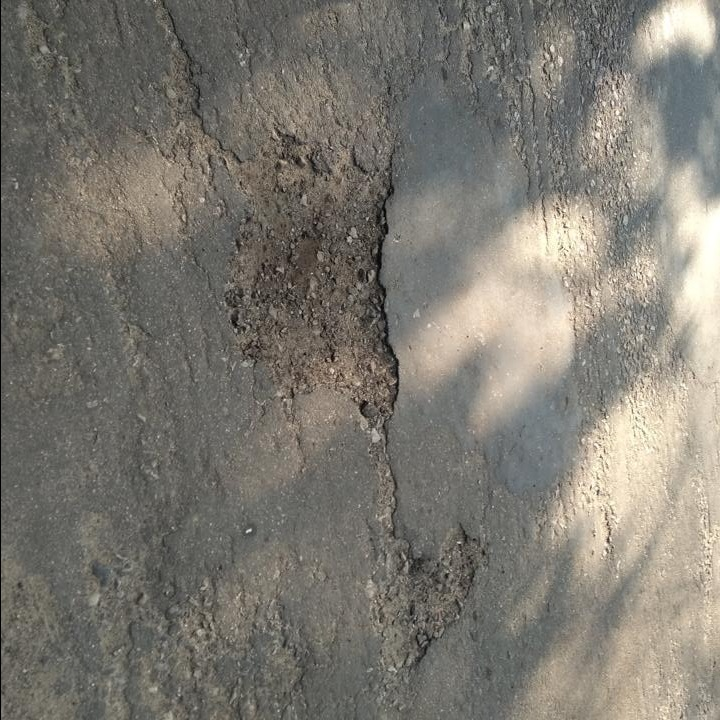pothole: (213, 122, 408, 415), (363, 521, 483, 675)
